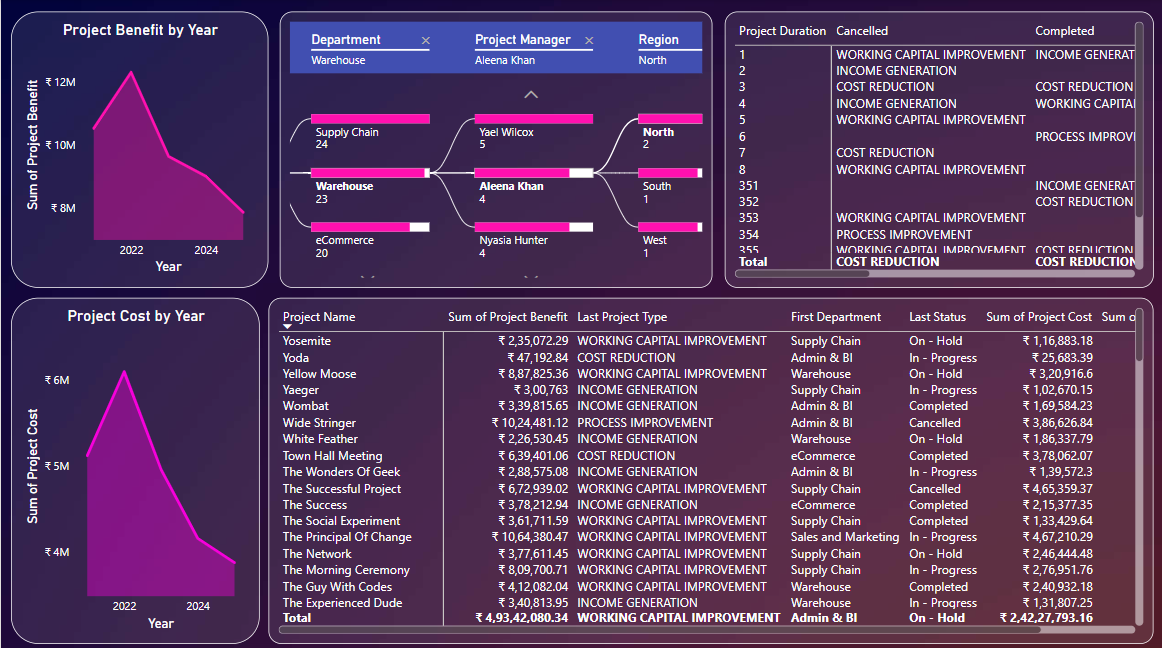

This screenshot's page, from the dashboard's own definition file:
{"tool":"powerbi","page":{"name":"Page 2","canvas":[1280,720],"ordinal":1},"visuals":[{"type":"areaChart","title":" Project Benefit by Year","fields":{"Category":["Date.Year"],"Y":["Project management.Project Benefit"]},"box":[11,13.8,283.3,303.9],"z":0},{"type":"areaChart","title":" Project Cost by Year","fields":{"Category":["Date.Year"],"Y":["Project management.Project Cost"]},"box":[11,328.7,273.7,380.9],"z":1000},{"type":"decompositionTreeVisual","fields":{"Analyze":["All Measures.Total Project"],"ExplainBy":["Project management.Department","Project management.Project Manager","Project management.Region","Project management.Project Benefit","Project management.Project Cost"]},"box":[306.7,13.8,475.8,303.9],"z":2000},{"type":"pivotTable","fields":{"Rows":["Project management.Project Duration"],"Columns":["Project management.Status"],"Values":["Project management.Project Type"]},"box":[796.2,13.8,471.7,303.9],"z":3000},{"type":"pivotTable","fields":{"Rows":["Project management.Project Name"],"Values":["Project management.Project Benefit","Project management.Project Type","Project management.Department","Project management.Status","Project management.Project Cost","Project management.Completion%"]},"box":[294.3,328.7,973.6,380.9],"z":4000}]}

Visuals, with their boxes in screenshot pixels (x1, y1, x2, y2), scaled from the page's 1280x720 canvas onto the 1162x648 screenshot:
" Project Benefit by Year" areaChart: Rect(10, 12, 267, 286)
" Project Cost by Year" areaChart: Rect(10, 296, 258, 639)
decompositionTreeVisual - All Measures.Total Project x Project management.Department: Rect(278, 12, 710, 286)
pivotTable - Project management.Project Duration x Project management.Status: Rect(723, 12, 1151, 286)
pivotTable - Project management.Project Name x Project management.Project Benefit: Rect(267, 296, 1151, 639)
